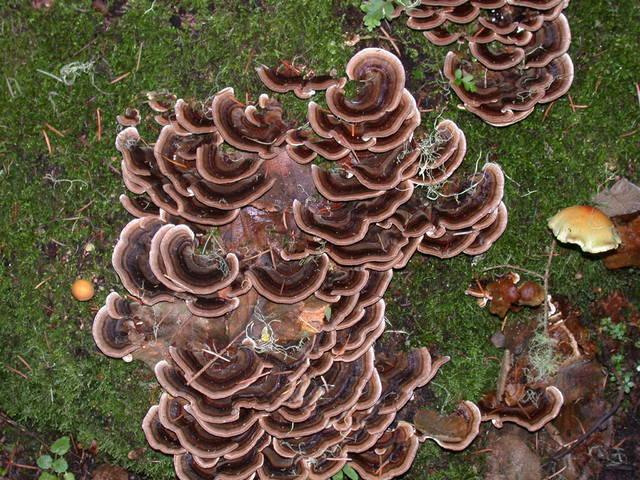Non-edible Mushroom: (91, 45, 509, 478), (546, 203, 622, 255)
